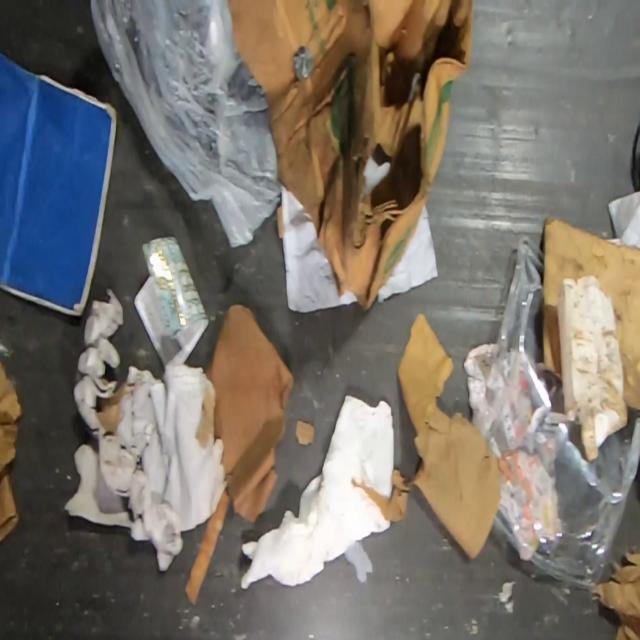cardboard: (225, 0, 475, 315), (94, 303, 295, 605), (352, 312, 502, 561), (0, 48, 118, 320), (542, 215, 640, 412), (0, 352, 22, 544), (293, 418, 316, 446)
rigid_plastic: (471, 228, 640, 593)
soft_plastic: (86, 0, 283, 248)
